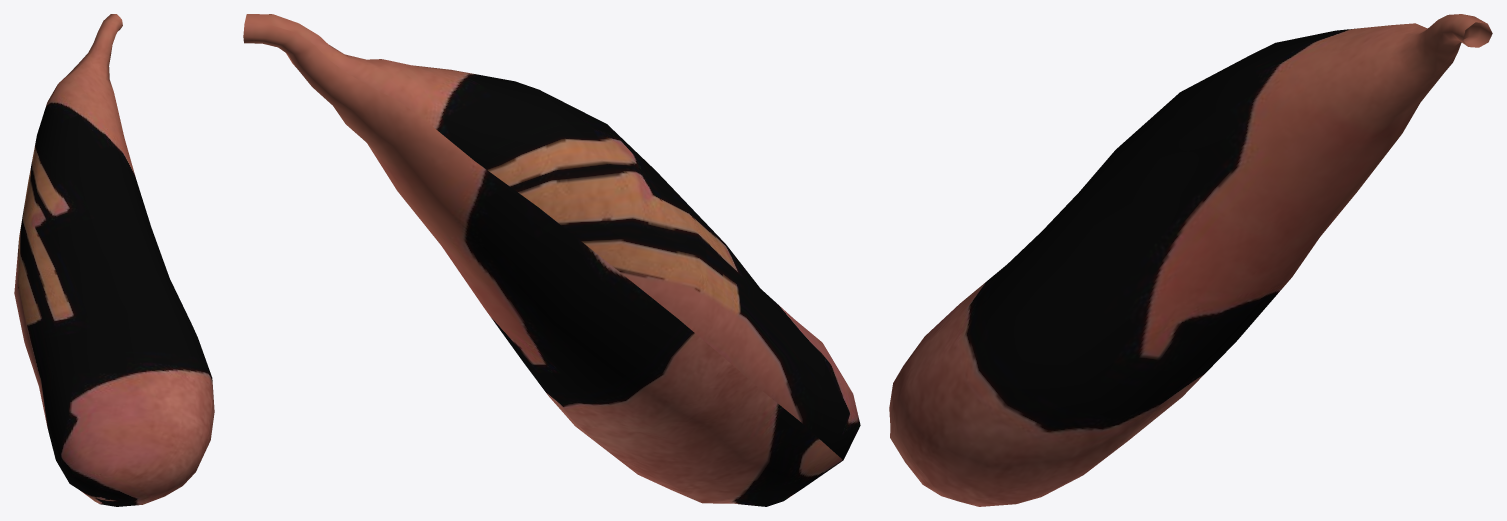
File: Digestive.Vesica_biliaris.Vesica_biliaris_lining.obj
3 views of the same model, side by side, from view 1: azimuth 30°, elevation 25°; view 2: azimuth 150°, elevation 25°; view 3: azimuth 270°, elevation 25° (orthographic). The views are drawn at different scales.
Visible parts, largest first — view 1: Digestive:Vesica_biliaris:Vesica_biliaris_lining_Vesica_biliaris; view 2: Digestive:Vesica_biliaris:Vesica_biliaris_lining_Vesica_biliaris; view 3: Digestive:Vesica_biliaris:Vesica_biliaris_lining_Vesica_biliaris.
Boxes of the visible parts, box(x1,y1,x2,y2) form: Digestive:Vesica_biliaris:Vesica_biliaris_lining_Vesica_biliaris: box(14, 14, 214, 506); Digestive:Vesica_biliaris:Vesica_biliaris_lining_Vesica_biliaris: box(243, 14, 860, 506); Digestive:Vesica_biliaris:Vesica_biliaris_lining_Vesica_biliaris: box(889, 14, 1492, 506).
Size of the model in its own units: 0.1541 by 0.2526 by 0.2383.
